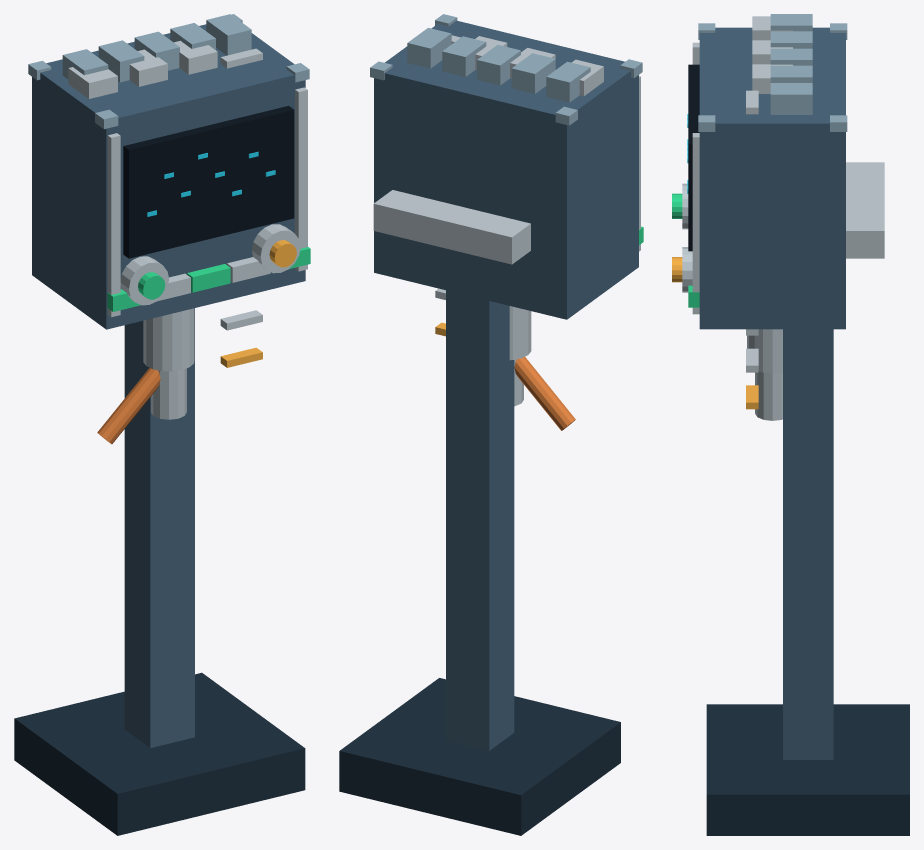
Rendered from 26_L73_PadWearMeasurementSensor.fbx.
3 renders of one model, left to right at view 1: azimuth 30°, elevation 25°; view 2: azimuth 150°, elevation 25°; view 3: azimuth 270°, elevation 25°, orthographic. The views are drawn at different scales.
Parts seen in each view (by area): view 1: PadWearMeasurementSensor, PadWearMeasurementSensor_Part_0003, PadWearMeasurementSensor_Part_0010, PadWearMeasurementSensor_Part_0037, PadWearMeasurementSensor_Part_0008, PadWearMeasurementSensor_Part_0009, PadWearMeasurementSensor_Part_0038, PadWearMeasurementSensor_Part_0039, PadWearMeasurementSensor_Part_0031, PadWearMeasurementSensor_Part_0022, PadWearMeasurementSensor_Part_0020, PadWearMeasurementSensor_Part_0024 (+10 smaller); view 2: PadWearMeasurementSensor, PadWearMeasurementSensor_Part_0003, PadWearMeasurementSensor_Part_0038, PadWearMeasurementSensor_Part_0028, PadWearMeasurementSensor_Part_0031, PadWearMeasurementSensor_Part_0030, PadWearMeasurementSensor_Part_0027, PadWearMeasurementSensor_Part_0029, PadWearMeasurementSensor_Part_0037, PadWearMeasurementSensor_Part_0024; view 3: PadWearMeasurementSensor, PadWearMeasurementSensor_Part_0003, PadWearMeasurementSensor_Part_0010, PadWearMeasurementSensor_Part_0031, PadWearMeasurementSensor_Part_0009, PadWearMeasurementSensor_Part_0039, PadWearMeasurementSensor_Part_0037, PadWearMeasurementSensor_Part_0030, PadWearMeasurementSensor_Part_0027, PadWearMeasurementSensor_Part_0028, PadWearMeasurementSensor_Part_0029, PadWearMeasurementSensor_Part_0026 (+3 smaller).
Part boxes in pixels (x1,y1,x2,y2): PadWearMeasurementSensor: (14,48,305,835); PadWearMeasurementSensor_Part_0003: (32,24,305,329); PadWearMeasurementSensor_Part_0010: (123,106,294,258); PadWearMeasurementSensor_Part_0037: (143,308,194,371); PadWearMeasurementSensor_Part_0008: (107,133,120,317); PadWearMeasurementSensor_Part_0009: (295,87,307,271); PadWearMeasurementSensor_Part_0038: (97,368,160,444); PadWearMeasurementSensor_Part_0039: (151,368,186,419); PadWearMeasurementSensor_Part_0031: (206,14,251,55); PadWearMeasurementSensor_Part_0022: (251,224,300,273); PadWearMeasurementSensor_Part_0020: (120,256,168,305); PadWearMeasurementSensor_Part_0024: (68,67,117,98); PadWearMeasurementSensor: (339,35,620,835); PadWearMeasurementSensor_Part_0003: (374,20,638,319); PadWearMeasurementSensor_Part_0038: (514,357,575,430); PadWearMeasurementSensor_Part_0028: (511,53,555,93); PadWearMeasurementSensor_Part_0031: (407,28,451,68); PadWearMeasurementSensor_Part_0030: (442,36,486,76); PadWearMeasurementSensor_Part_0027: (546,61,590,102); PadWearMeasurementSensor_Part_0029: (477,45,520,85); PadWearMeasurementSensor_Part_0037: (509,306,531,360); PadWearMeasurementSensor_Part_0024: (572,59,603,96); PadWearMeasurementSensor: (706,90,909,835); PadWearMeasurementSensor_Part_0003: (699,27,845,329); PadWearMeasurementSensor_Part_0010: (688,64,699,251); PadWearMeasurementSensor_Part_0031: (770,83,812,114); PadWearMeasurementSensor_Part_0009: (692,133,699,314); PadWearMeasurementSensor_Part_0039: (755,371,782,420); PadWearMeasurementSensor_Part_0037: (747,329,782,373); PadWearMeasurementSensor_Part_0030: (770,65,812,82); PadWearMeasurementSensor_Part_0027: (770,14,812,31); PadWearMeasurementSensor_Part_0028: (770,31,812,48); PadWearMeasurementSensor_Part_0029: (770,48,812,65); PadWearMeasurementSensor_Part_0026: (752,64,792,93).
Size of the model in its own units: 46.05 by 159 by 46.8.
